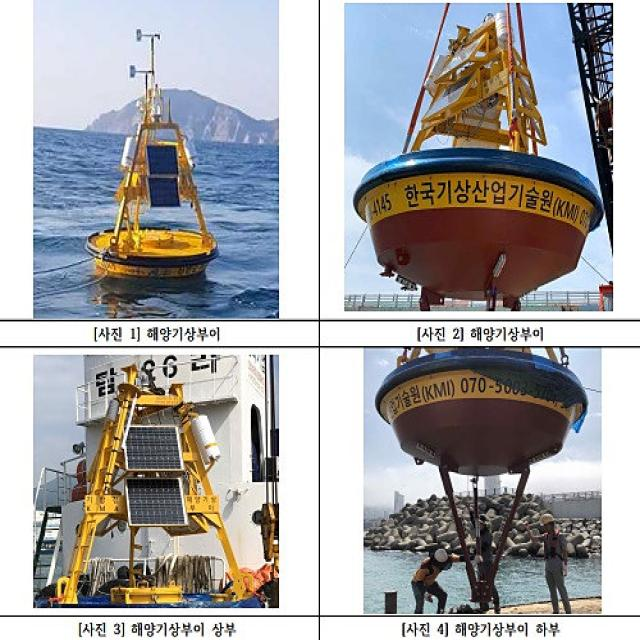buoy: (364, 9, 601, 302), (368, 347, 601, 612), (51, 362, 268, 613), (81, 14, 240, 305)
